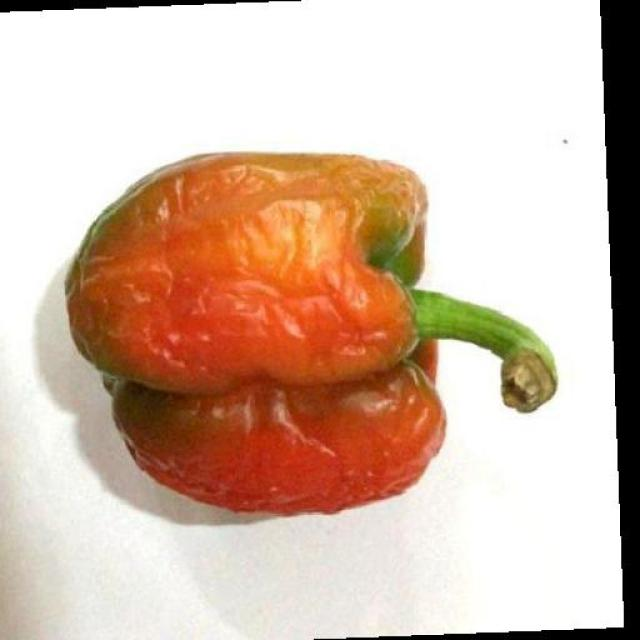Stale_Capsicum: (56, 99, 523, 503)
